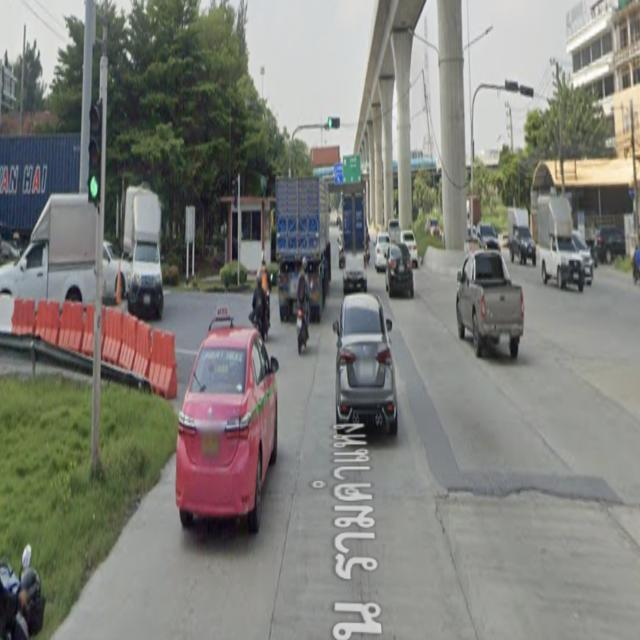fallen_object: (3, 285, 180, 400)
